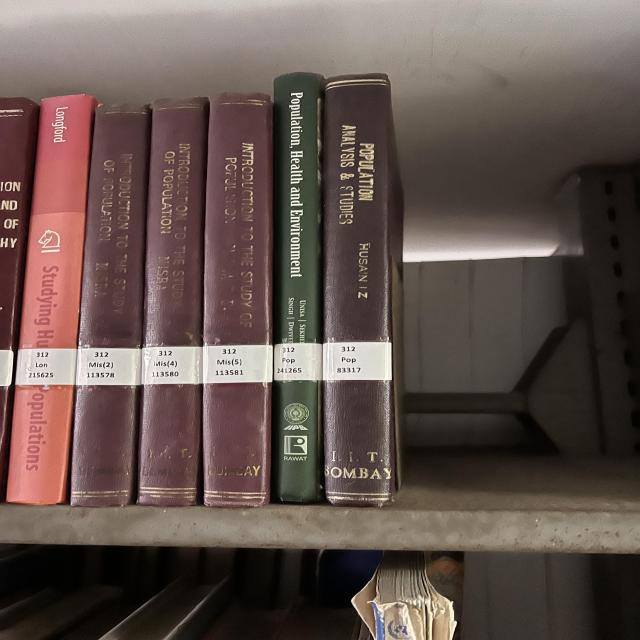Book: (7, 95, 98, 504), (322, 74, 403, 506), (70, 104, 150, 506), (203, 92, 273, 508), (138, 98, 208, 506), (273, 72, 323, 502)
Label: (203, 345, 273, 384), (323, 342, 392, 381), (75, 348, 142, 385), (142, 346, 202, 385), (15, 349, 77, 385), (273, 342, 322, 381)
